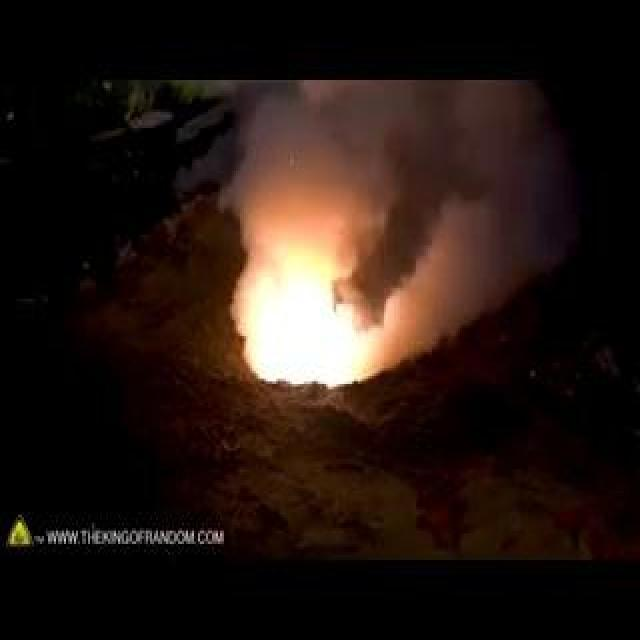Fire: (242, 234, 382, 398)
Smoke: (255, 82, 564, 242)
